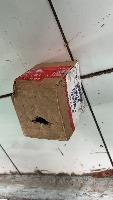damaged package: (27, 112, 53, 127)
undamaged: (9, 58, 88, 146)
